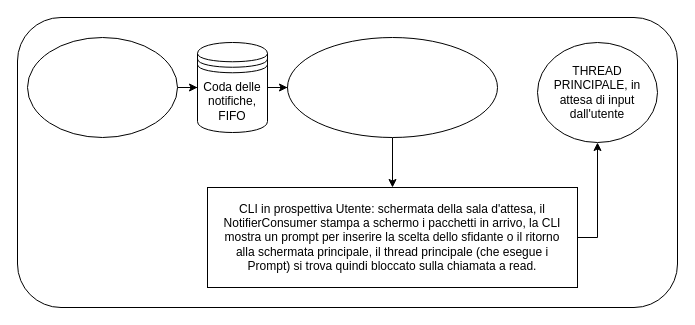
Some shapes in this 695 by 325 pixel diagram are drawn without their labels. The shapes that lost their labels are listed below. From the top down, each one's centre as x and y in pixels, then its label:
At (x=102, y=87): "UDPReader - THREAD UDP LETTORE, PRODUTTORE dei Pacchetti di Notifica".
At (x=392, y=87): "NotifierConsumer - THREAD CONSUMATORE dei Pacchetti di Notifica".
